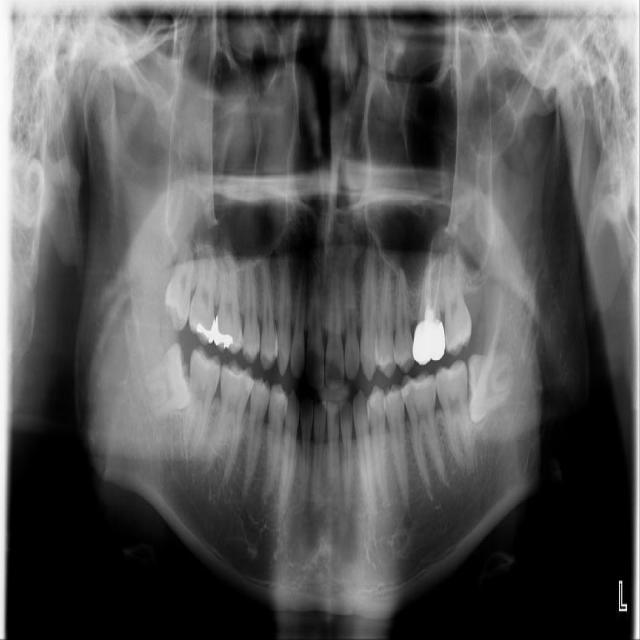3M ESPE Implant: (161, 237, 198, 333)
52: (412, 314, 447, 368), (213, 309, 245, 355), (189, 293, 215, 345)
73: (418, 233, 450, 322), (576, 525, 584, 539)
BioHorizons Implant: (439, 237, 474, 355)
Biomet 3i Implant: (464, 350, 515, 424)
Blue Sky Bio Implant: (433, 357, 476, 475)
Caries: (187, 239, 221, 346)
Implant: (179, 345, 226, 459)
Keystone Dental Implant: (135, 340, 199, 419)
